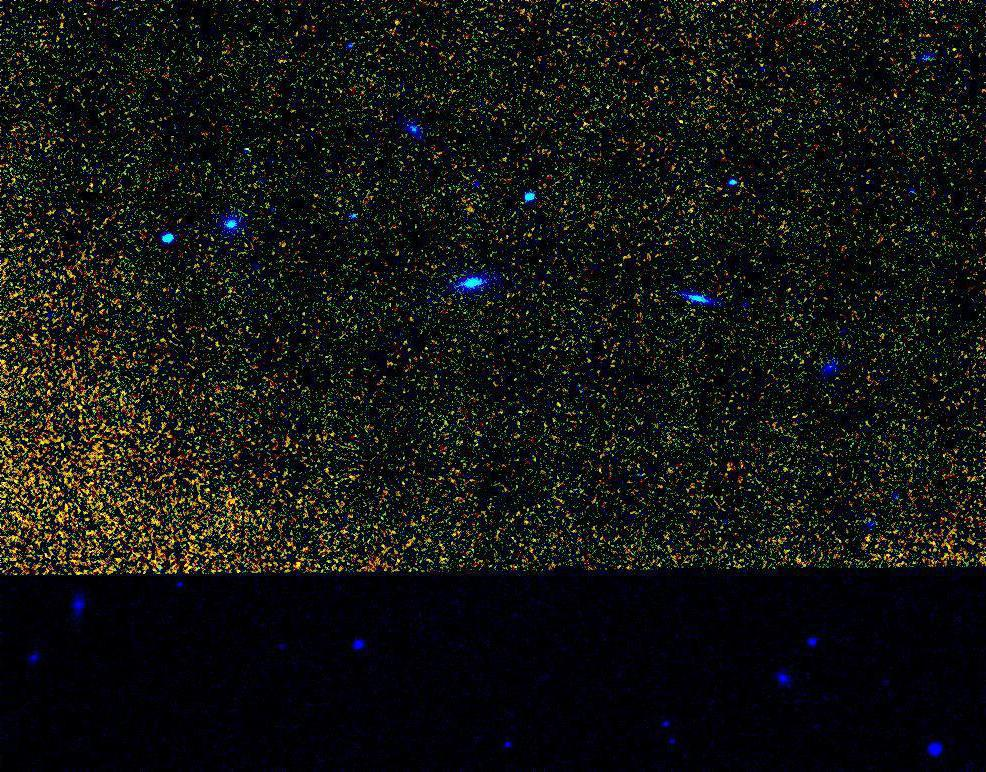star: (383, 6, 413, 36)
